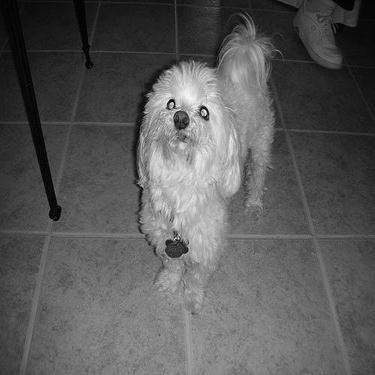dog: (123, 6, 286, 317)
